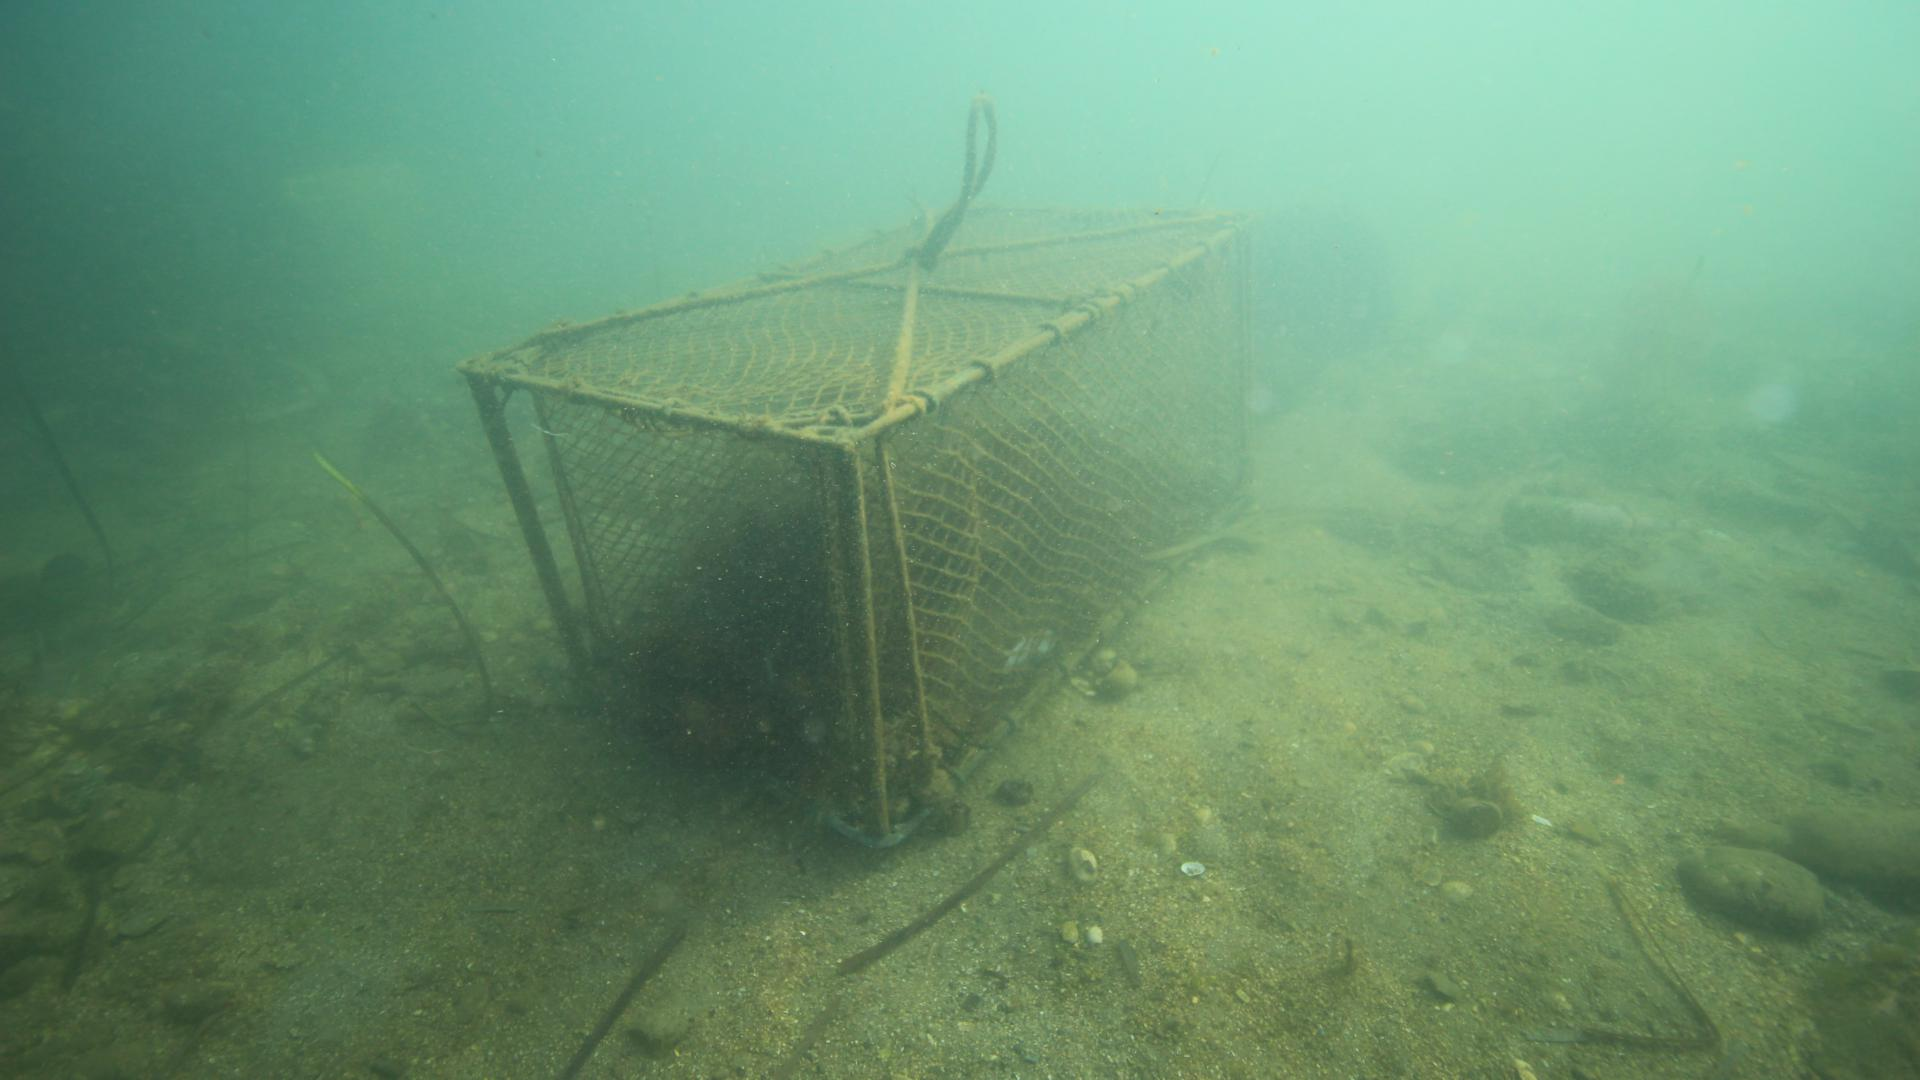bundle of ropes: (823, 90, 1004, 284)
rectangular fish trap: (458, 196, 1254, 848)
